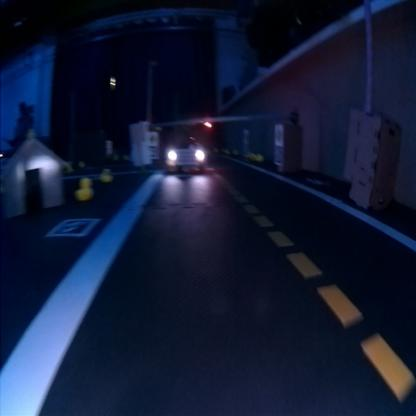Duckie: (77, 176, 95, 200), (102, 167, 114, 181)
Duckiebot: (168, 137, 208, 171)
QR code: (46, 218, 102, 236), (275, 146, 283, 164), (308, 177, 326, 184)
